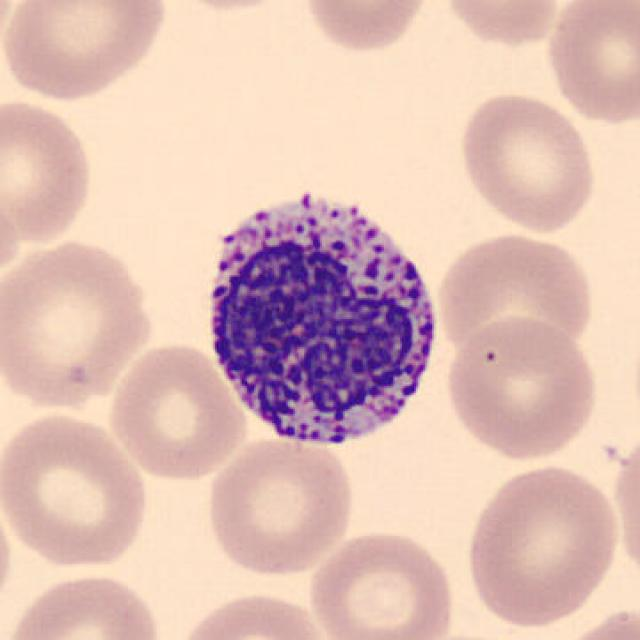Basophil: (194, 182, 452, 462)
RBC: (0, 235, 158, 412), (460, 460, 624, 630), (0, 408, 153, 572), (441, 312, 603, 462), (201, 432, 359, 580), (432, 227, 597, 367), (453, 88, 601, 236), (105, 339, 249, 483), (304, 525, 460, 640), (0, 0, 172, 104), (0, 96, 98, 250), (540, 0, 640, 127), (2, 567, 169, 640), (169, 587, 331, 640), (298, 0, 435, 56), (439, 0, 567, 49), (608, 423, 640, 584), (551, 604, 640, 640), (0, 476, 18, 626), (151, 0, 304, 14)
